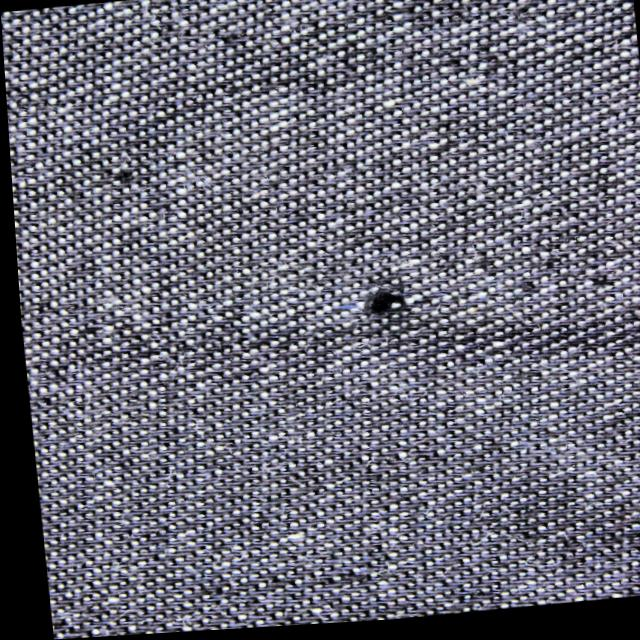Hole: (313, 279, 432, 346)
